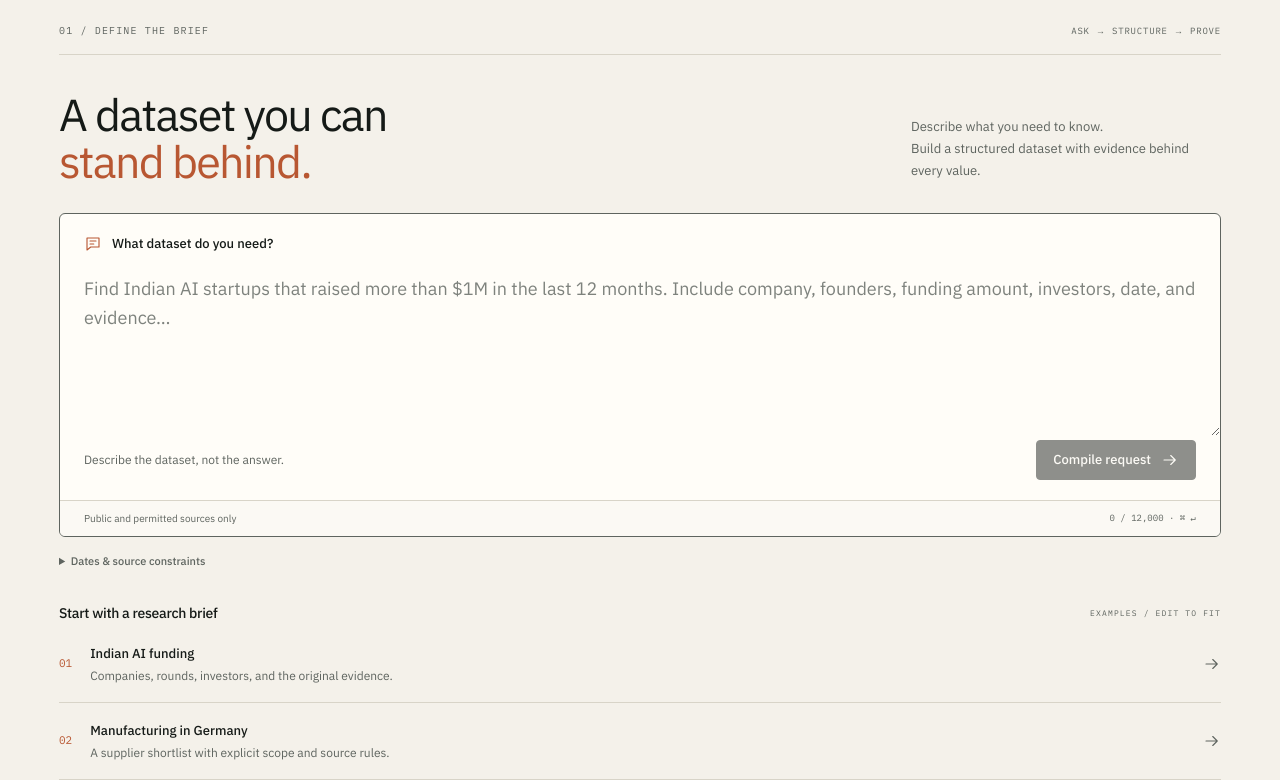
Test case: compiler and contract › keeps clarification separate without a schema or run action
Replace the text in the text box labelled "What dataset do you need?" with "Find good companies" at (640,345), box 60,254 -> 1220,436
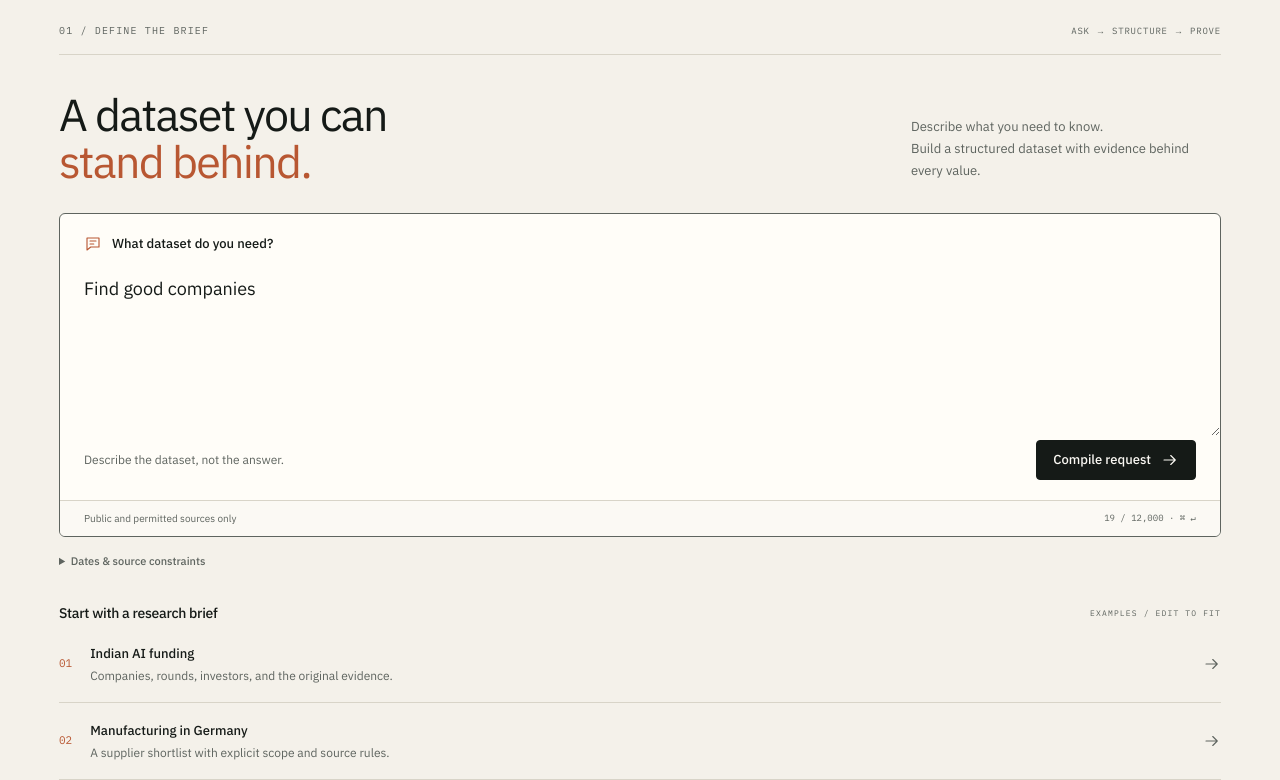
Click the button "Compile request".
click(1116, 460)  # box 1036,440 -> 1196,480
(page scrolled)
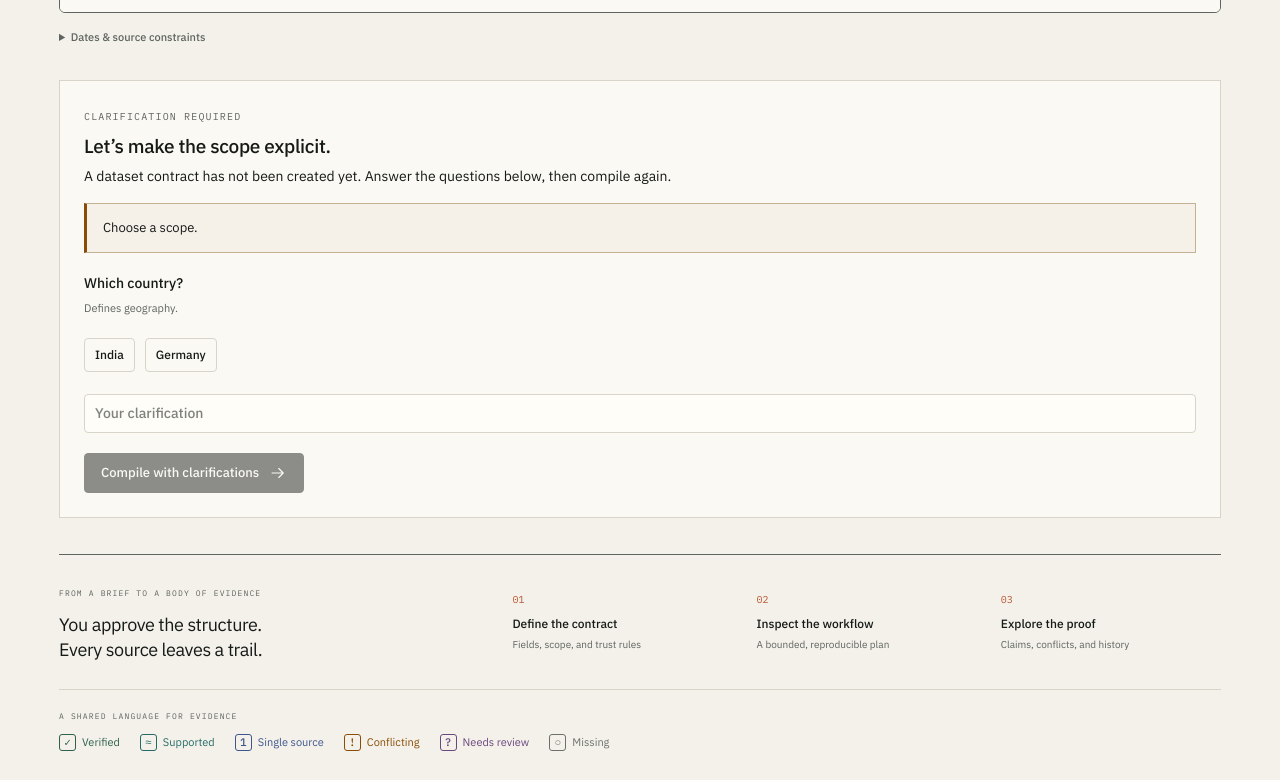
Result: the text "Which country?" is shown at 84,274 -> 183,292
Result: the button "Compile with clarifications" is disabled at 84,453 -> 304,493
